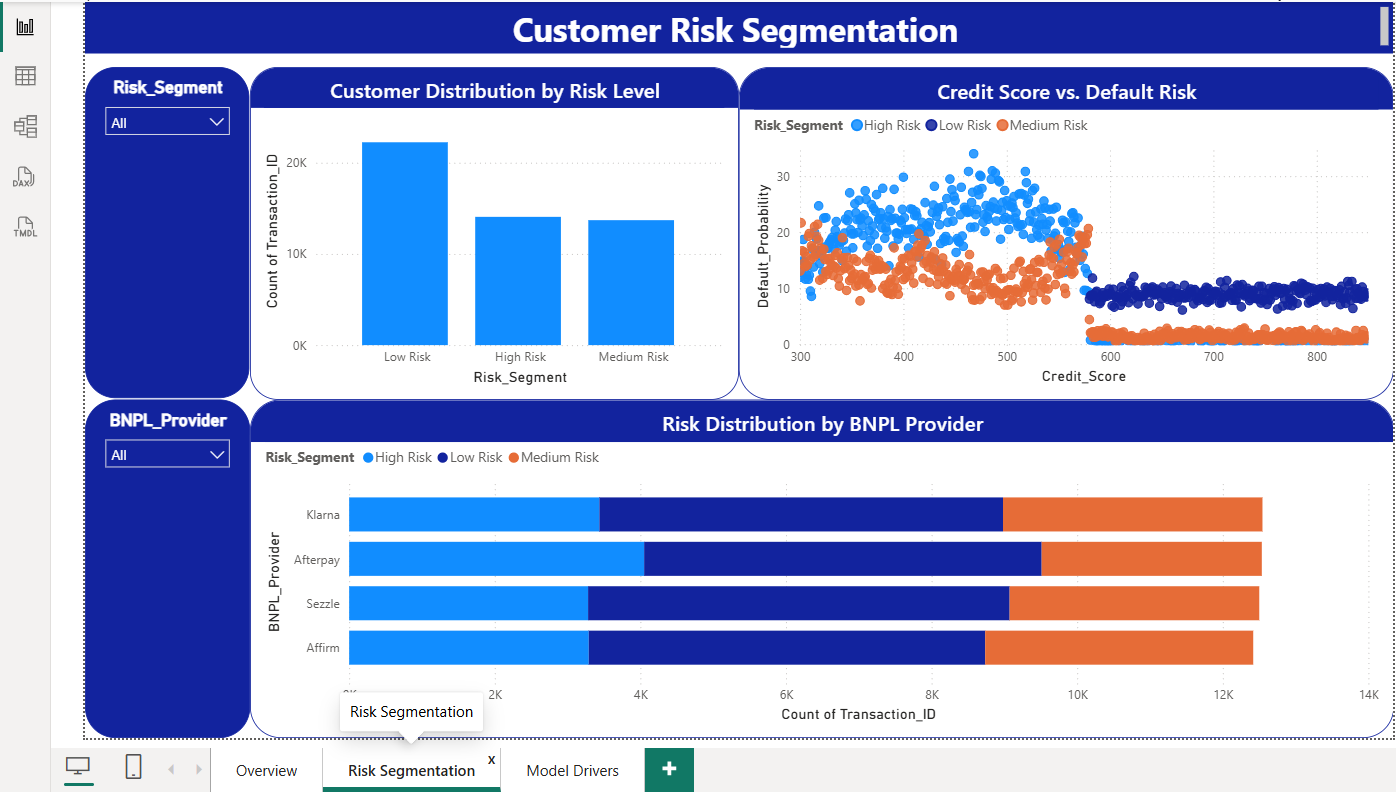

This screenshot's page, from the dashboard's own definition file:
{"tool":"powerbi","page":{"name":"Risk Segmentation","canvas":[1280,720],"ordinal":1},"visuals":[{"type":"clusteredColumnChart","title":"Customer Distribution by Risk Level","fields":{"Category":["bnpl_results_for_powerbi.Risk_Segment"],"Y":["CountNonNull(bnpl_results_for_powerbi.Transaction_ID)"]},"box":[161.4,63.6,478.1,325.3],"z":0},{"type":"scatterChart","title":"Credit Score vs. Default Risk","fields":{"X":["bnpl_results_for_powerbi.Credit_Score"],"Y":["Sum(bnpl_results_for_powerbi.Default_Probability)"],"Series":["bnpl_results_for_powerbi.Risk_Segment"]},"box":[639.5,63.6,640.8,325.3],"z":1000},{"type":"barChart","title":"Risk Distribution by BNPL Provider","fields":{"Category":["bnpl_results_for_powerbi.BNPL_Provider"],"Series":["bnpl_results_for_powerbi.Risk_Segment"],"Y":["CountNonNull(bnpl_results_for_powerbi.Transaction_ID)"]},"box":[161.4,388.9,1118.9,331.4],"z":2000},{"type":"textbox","box":[0,0,1280.3,50.1],"z":3000},{"type":"slicer","title":"Risk_Segment","fields":{"Values":["bnpl_results_for_powerbi.Risk_Segment"]},"box":[0,64,161,324],"z":3001},{"type":"slicer","title":"BNPL_Provider","fields":{"Values":["bnpl_results_for_powerbi.BNPL_Provider"]},"box":[0,388.9,161.4,331.4],"z":3002}]}

Visuals, with their boxes on the page's 1280x720 design canvas (x1, y1, x2, y2). These are canvas units, not pixel positions in the 1396x792 screenshot, which may show the page scaled, cropped or inside an application window:
"Customer Distribution by Risk Level" clusteredColumnChart: detection(161, 64, 640, 389)
"Credit Score vs. Default Risk" scatterChart: detection(640, 64, 1280, 389)
"Risk Distribution by BNPL Provider" barChart: detection(161, 389, 1280, 720)
textbox: detection(0, 0, 1280, 50)
"Risk_Segment" slicer: detection(0, 64, 161, 388)
"BNPL_Provider" slicer: detection(0, 389, 161, 720)
